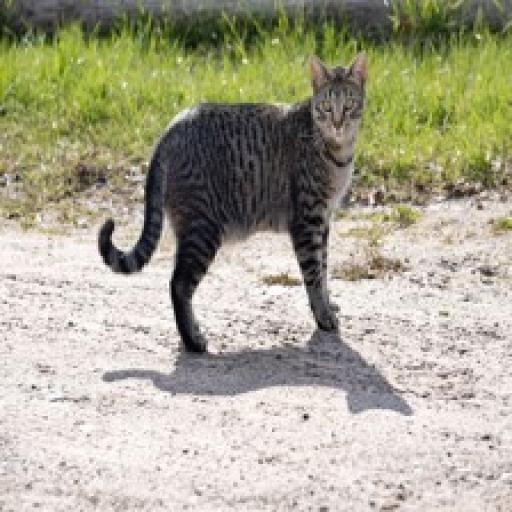cat: (90, 44, 382, 378)
